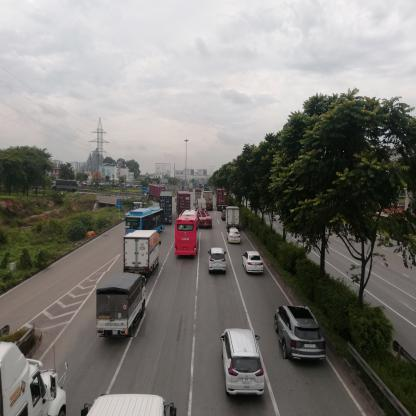bus: (176, 210, 199, 257), (127, 208, 166, 232)
car: (280, 307, 327, 360), (227, 329, 264, 393), (209, 248, 227, 276), (244, 252, 265, 274), (229, 228, 241, 245)
container: (1, 342, 67, 416), (161, 193, 174, 219), (178, 193, 190, 214), (218, 191, 229, 212), (147, 188, 163, 201), (199, 201, 207, 226)
truck: (98, 273, 147, 339), (123, 234, 159, 277), (52, 180, 78, 195), (226, 208, 241, 227)
